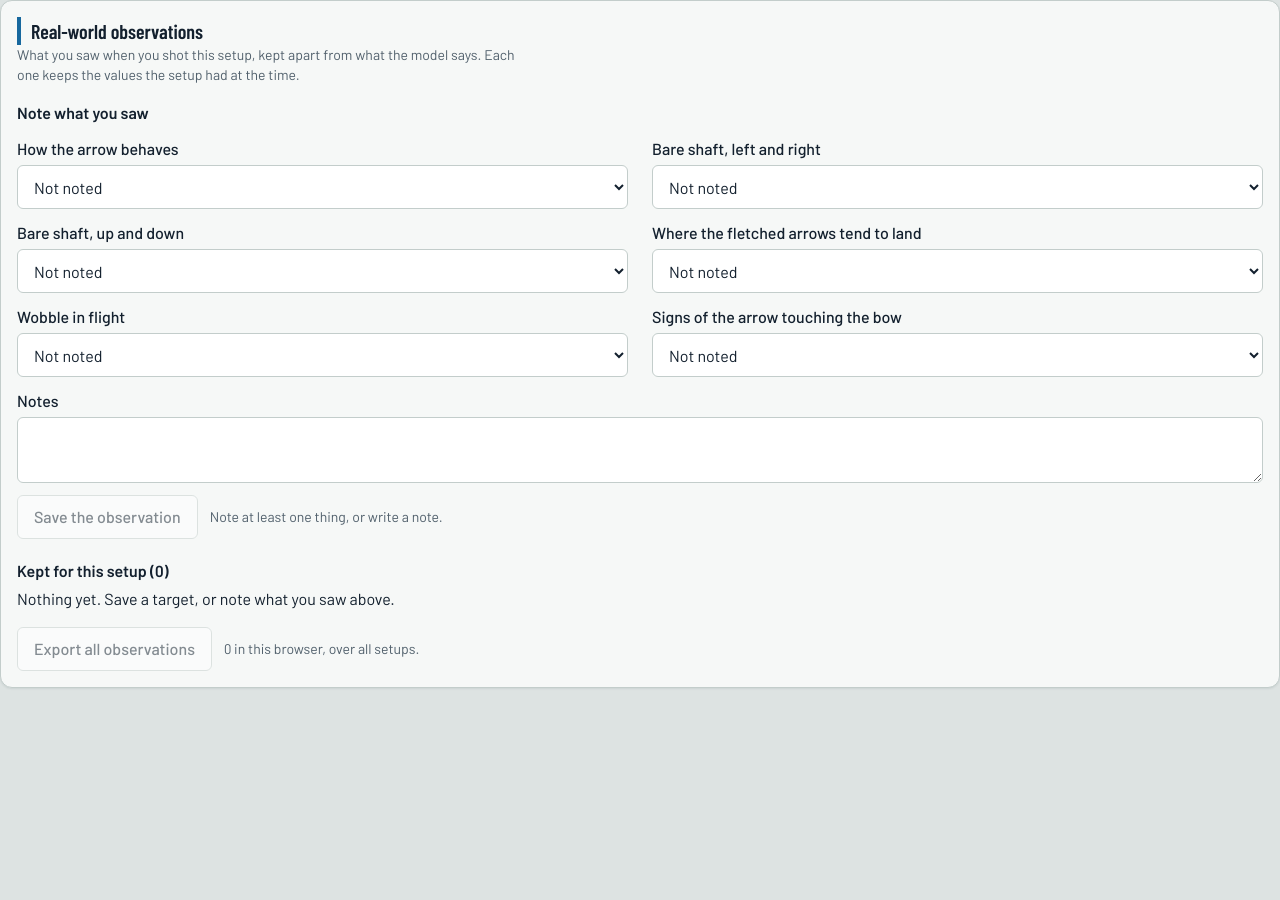
ObservationPanel › saves what was noted and shows it beside the model
The width and height of the screenshot is (1280, 900).
Select "Weak" in the dropdown labelled "How the arrow behaves" at (322, 187), box x1=17 y1=165 x2=628 y2=209
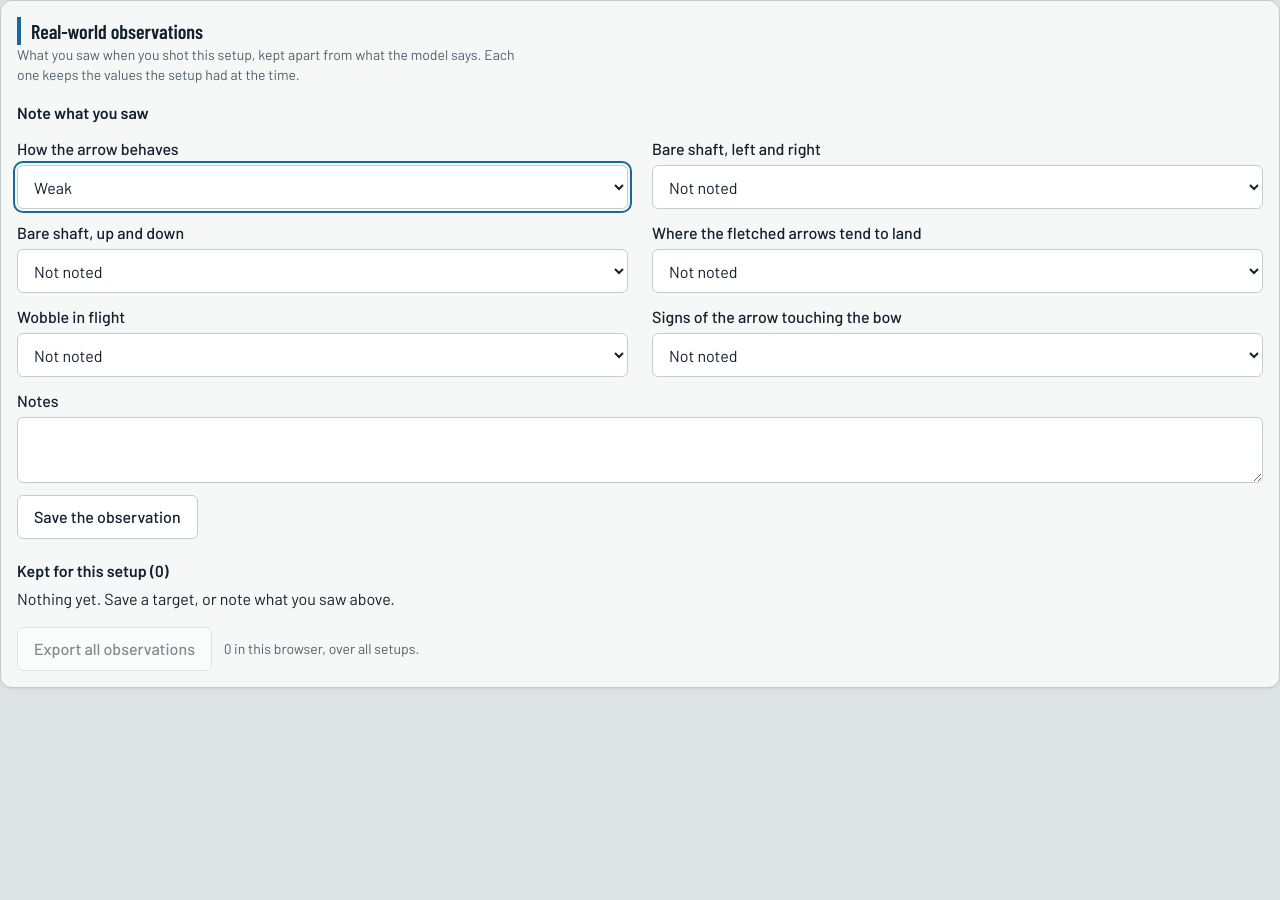
Select "None" in the dropdown labelled "Signs of the arrow touching the bow" at (958, 355), box x1=652 y1=333 x2=1263 y2=377
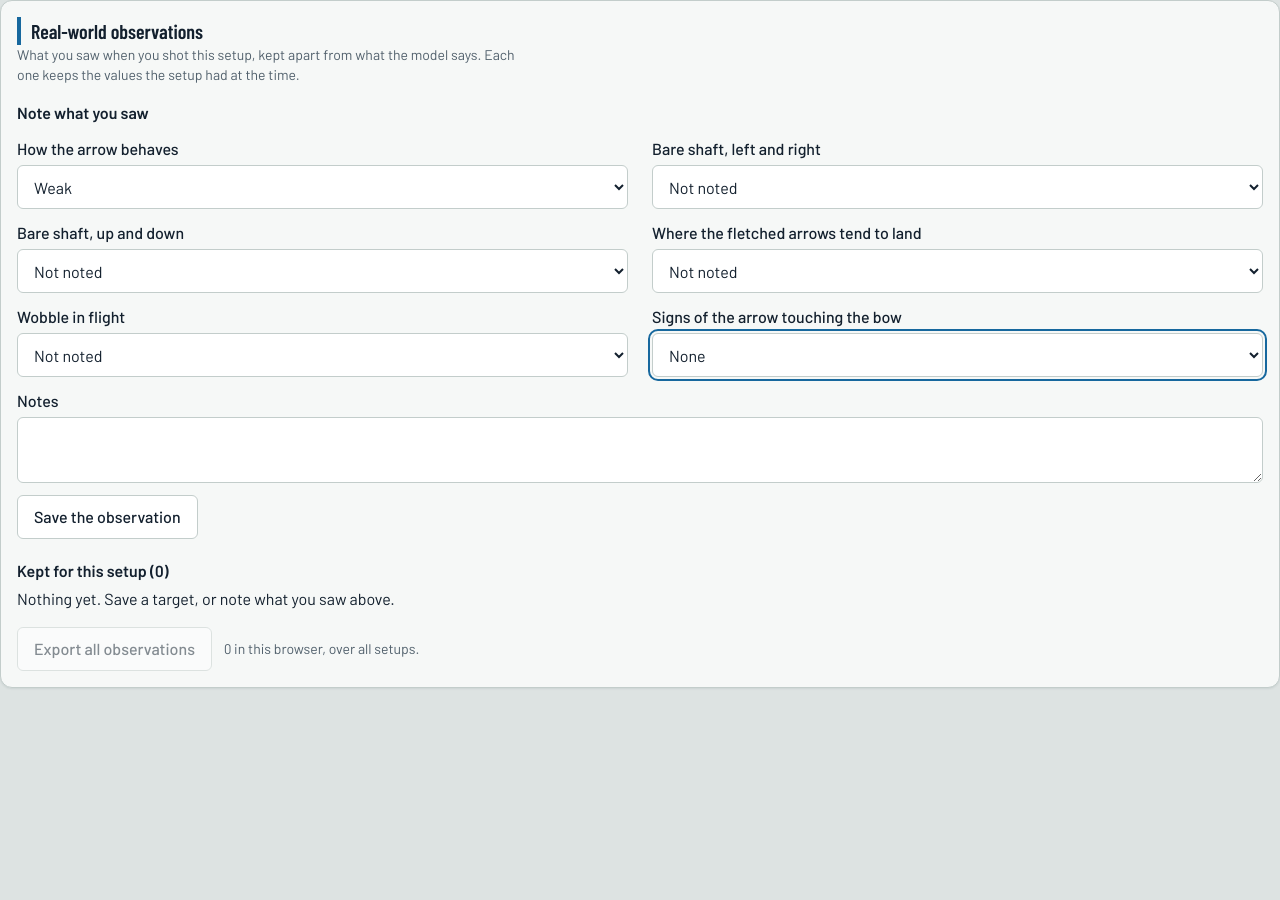
Type "Light wind from the left" into the text box labelled "Notes".
click(640, 450); type("Light wind from the left")  # box x1=17 y1=417 x2=1263 y2=483
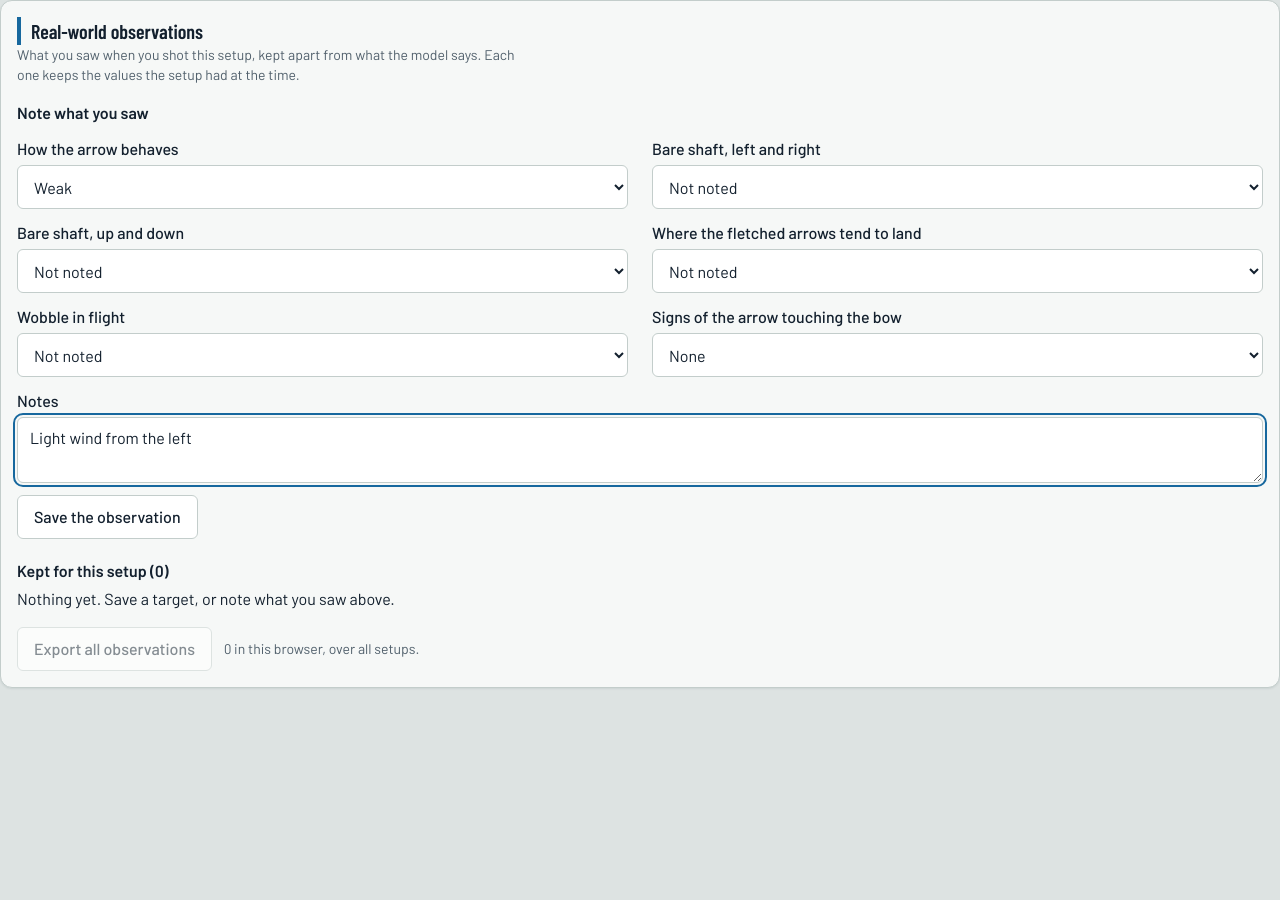
Click the button "Save the observation".
click(107, 517)  # box x1=17 y1=495 x2=198 y2=539
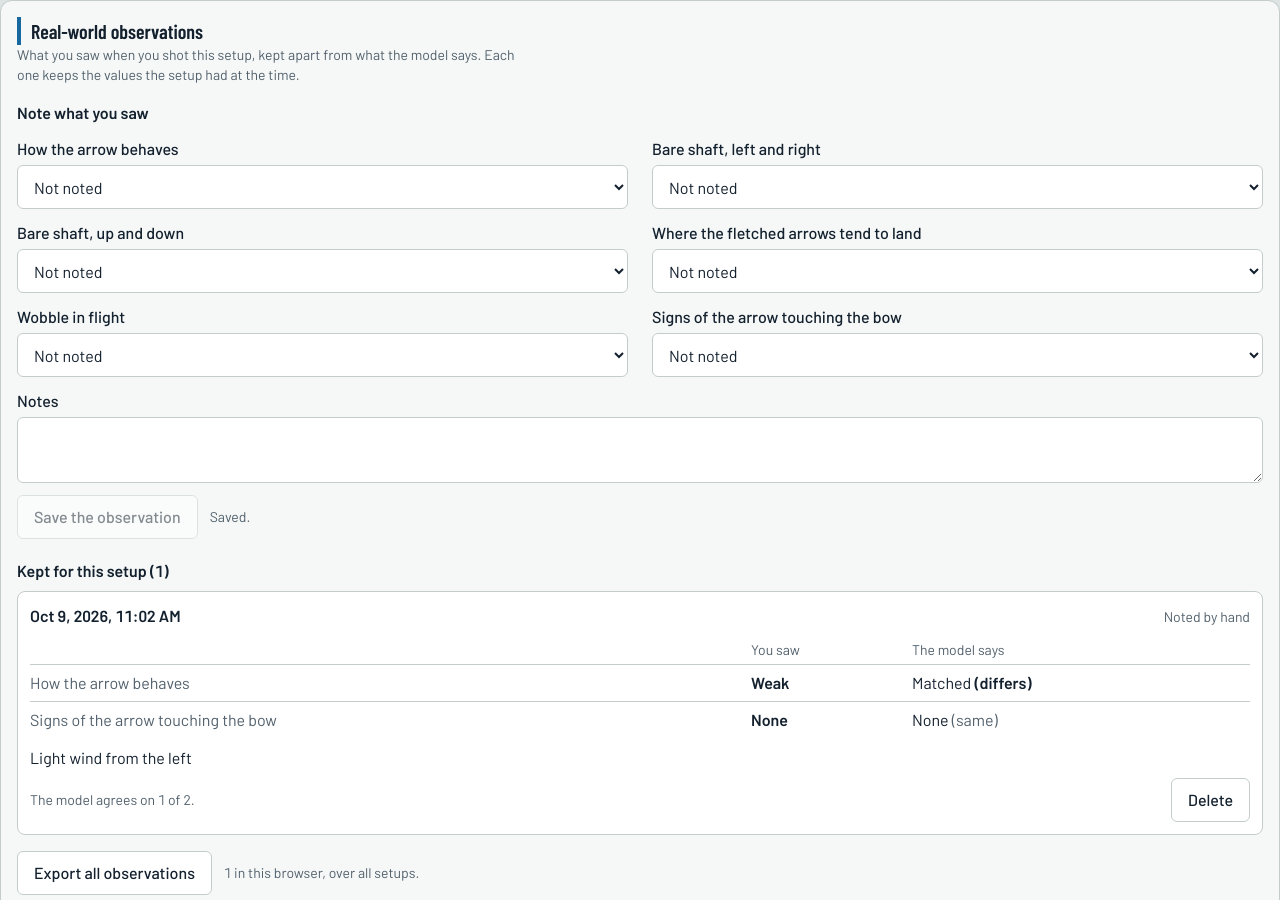
Check: the heading "Kept for this setup (1)" is shown, box x1=17 y1=561 x2=169 y2=580
Check: the text "Noted by hand" is shown, box x1=1164 y1=607 x2=1250 y2=627
Check: the row "How the arrow behaves Weak Matched (differs)" is shown, box x1=30 y1=664 x2=1250 y2=702
